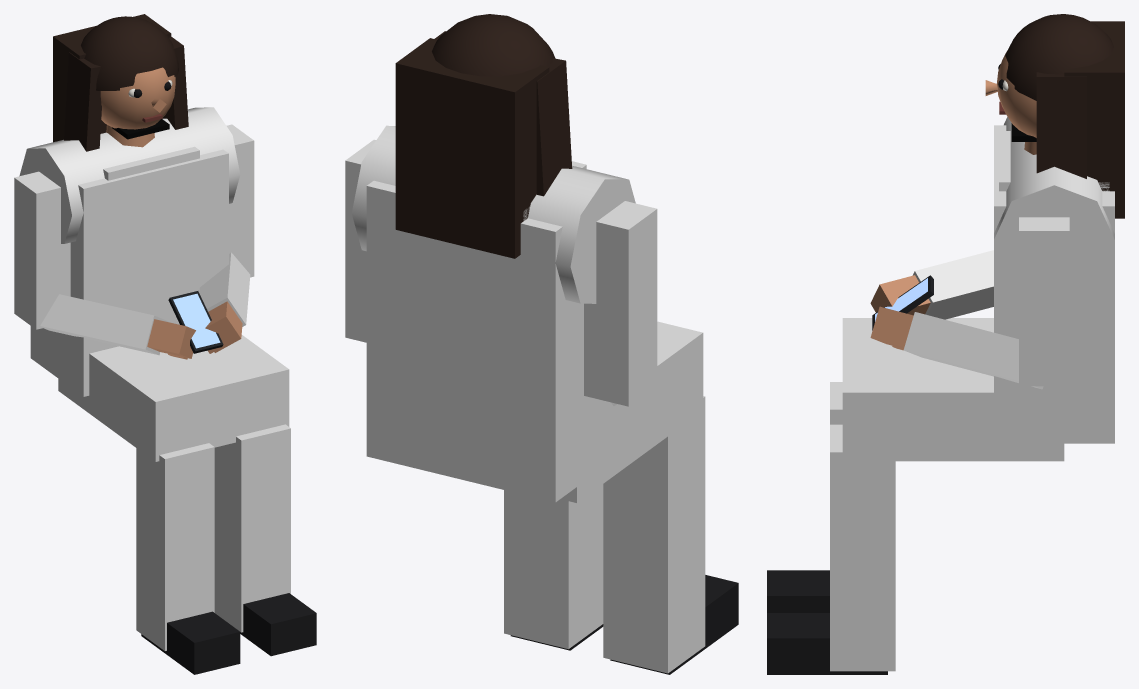
Rendered from NPC_mom_seated.fbx.
3 views of the same model, side by side, from view 1: azimuth 30°, elevation 25°; view 2: azimuth 150°, elevation 25°; view 3: azimuth 270°, elevation 25° (orthographic). The views are drawn at different scales.
Visible parts, largest first — view 1: Body_Cloth_Shirt.005, Body_Cloth_Pants.005, Head_Hair.007, Body_Shoe.005, Head_Skin.007, Body_Skin.007, Prop_Phone_PhoneScreen.003, Prop_Phone_PhoneBody.003, Head_JawShade.007; view 2: Body_Cloth_Shirt.005, Body_Cloth_Pants.005, Head_Hair.007, Body_Shoe.005; view 3: Body_Cloth_Shirt.005, Body_Cloth_Pants.005, Head_Hair.007, Body_Shoe.005, Body_Skin.007, Head_Skin.007.
Part boxes in pixels (x1,y1,x2,y2): Body_Cloth_Shirt.005: (14,107,254,396); Body_Cloth_Pants.005: (58,335,290,650); Head_Hair.007: (53,14,188,151); Body_Shoe.005: (141,593,316,674); Head_Skin.007: (100,67,175,129); Body_Skin.007: (106,125,242,359); Prop_Phone_PhoneScreen.003: (173,293,220,348); Prop_Phone_PhoneBody.003: (168,291,223,353); Head_JawShade.007: (112,119,169,139); Body_Cloth_Shirt.005: (345,125,657,502); Body_Cloth_Pants.005: (504,321,705,673); Head_Hair.007: (395,14,572,258); Body_Shoe.005: (510,575,738,674); Body_Cloth_Shirt.005: (903,117,1114,443); Body_Cloth_Pants.005: (830,318,1064,671); Head_Hair.007: (1005,14,1124,218); Body_Shoe.005: (767,570,887,674); Body_Skin.007: (870,142,1036,350); Head_Skin.007: (985,51,1036,137).
Bounding box in the file's own units: 0.57 × 1.36 × 0.71.
